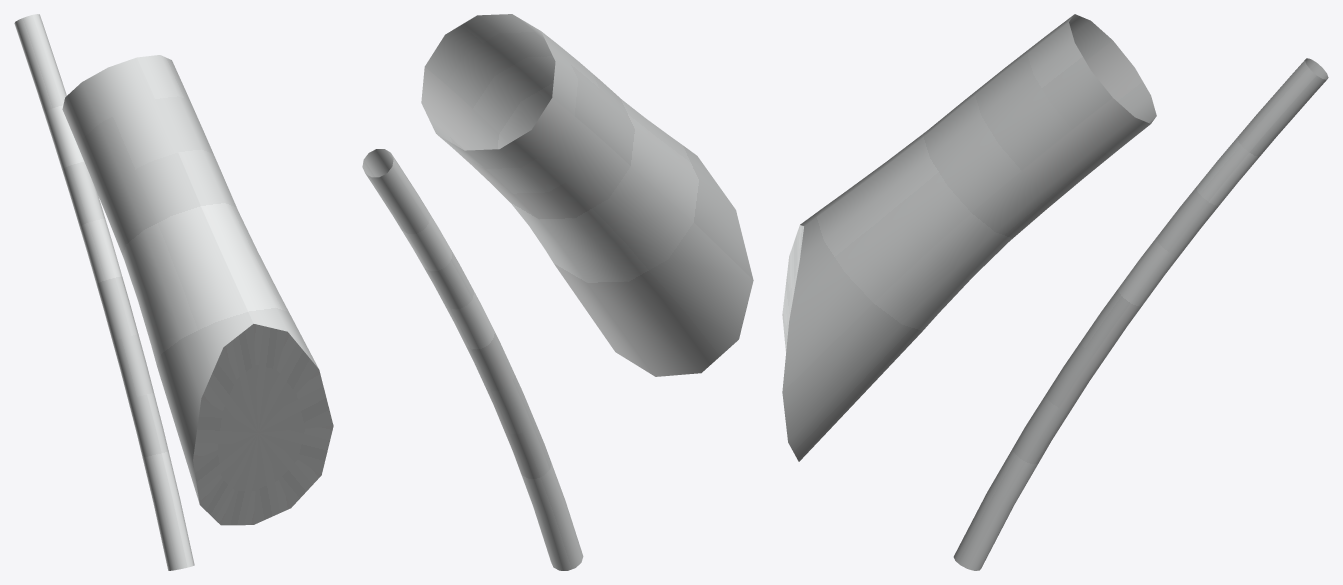
The model's file is luminairearm_laupsweep8ft_c0.obj.
3 renders of one model, left to right at view 1: azimuth 30°, elevation 25°; view 2: azimuth 150°, elevation 25°; view 3: azimuth 270°, elevation 25°, orthographic. The views are drawn at different scales.
Parts seen in each view (by area): view 1: luminairearm_laupsweep8ft_c0; view 2: luminairearm_laupsweep8ft_c0; view 3: luminairearm_laupsweep8ft_c0.
Boxes of the visible parts, <box> form: luminairearm_laupsweep8ft_c0: <box>14,14,333,570</box>; luminairearm_laupsweep8ft_c0: <box>362,14,753,570</box>; luminairearm_laupsweep8ft_c0: <box>782,14,1328,570</box>.
Size of the model in its own units: 0.3375 by 1.11 by 1.
